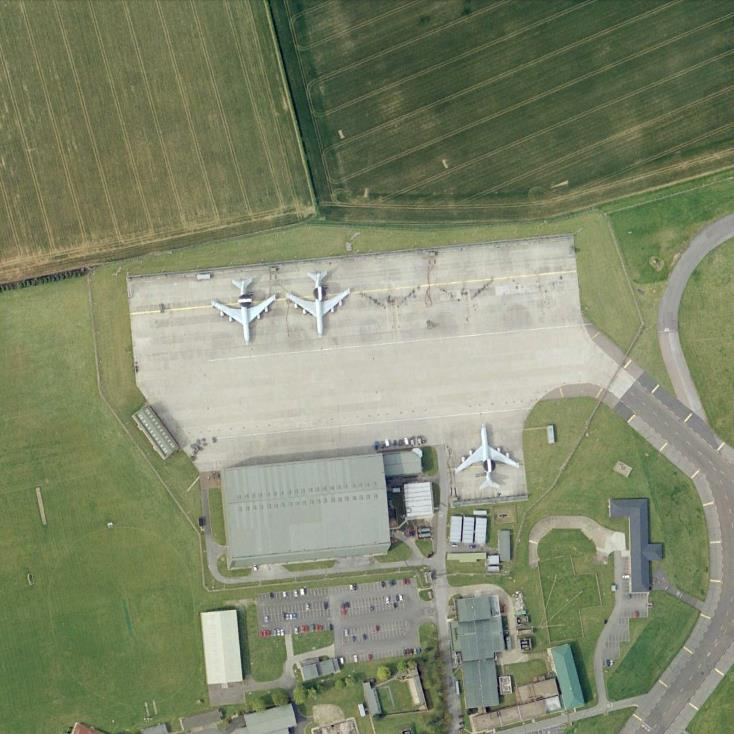A7: (452, 419, 524, 491), (284, 266, 352, 341), (212, 278, 281, 346)
